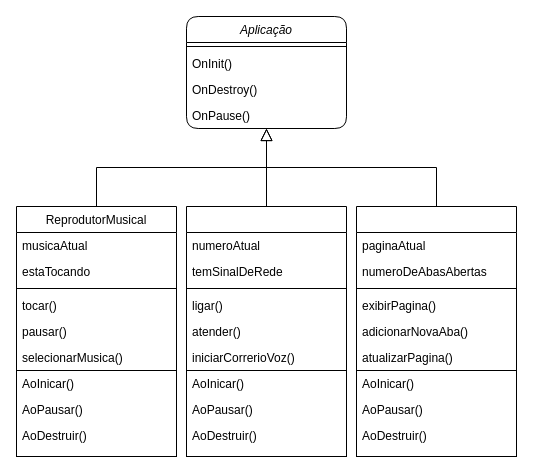
The diagram is 533 pixels wide and 473 high, and some of its shapes have lost their labels. Here are the shapes that lost their labels. From the top down, the box of each, then its label:
(186, 206, 346, 370): AparelhoTelefonico
(356, 206, 516, 370): Navegador
